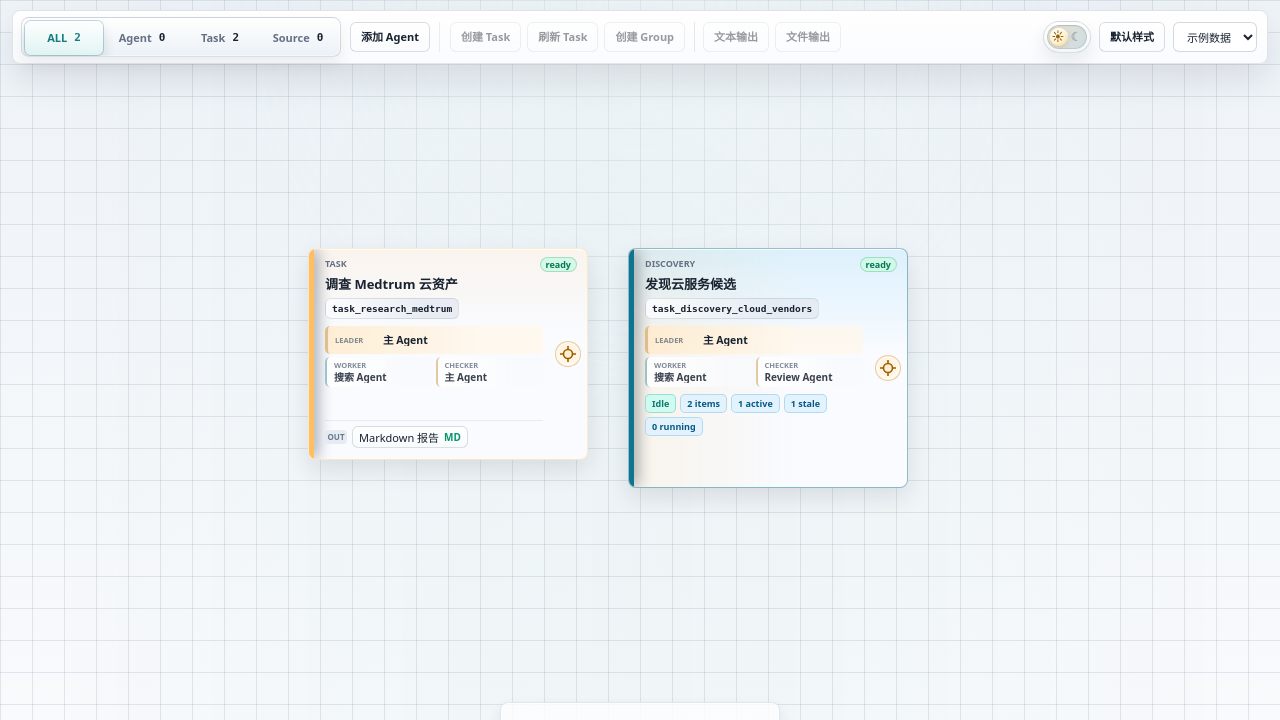
Test: App › canvas connections › renders typed input and output ports on live Task cards
Select "实时 API" in the dropdown: {"x": 1215, "y": 37} top-left (1173, 22), bottom-right (1257, 52)
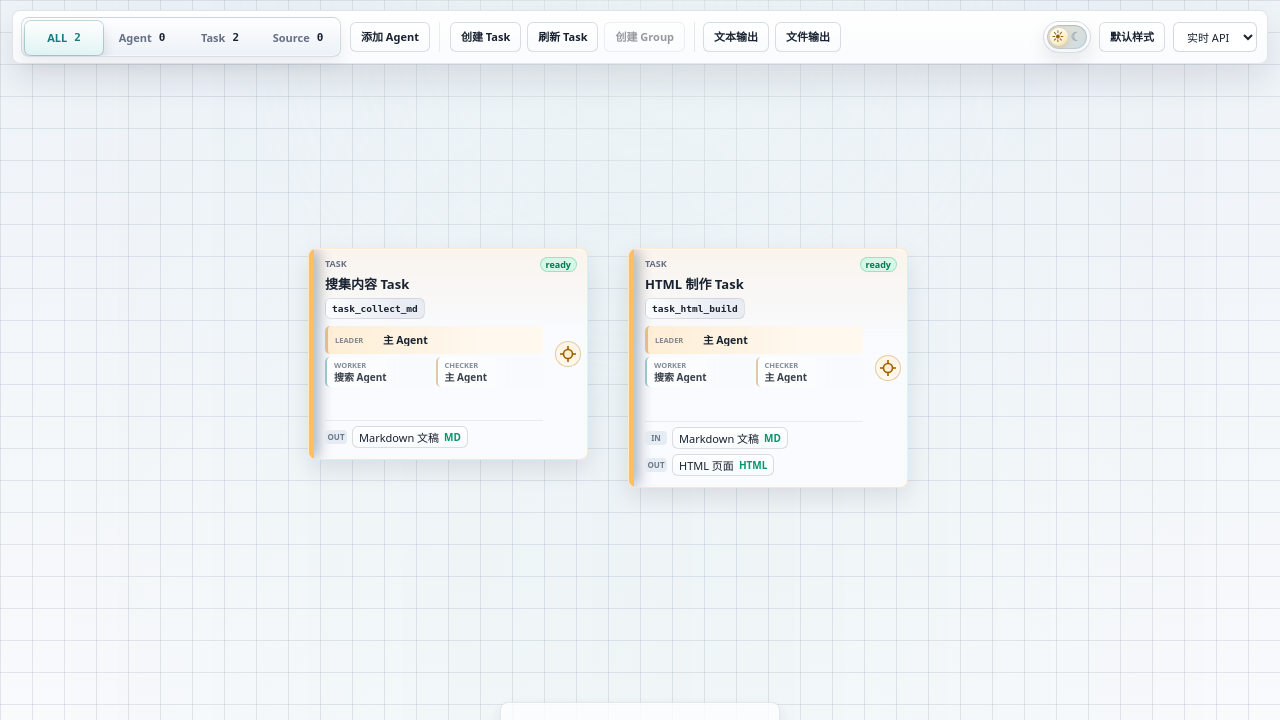
Now the button with aria-label "输出 Markdown 文稿 md" is shown, box top-left (352, 426), bottom-right (468, 448)
Now the button with aria-label "输入 Markdown 文稿 md" is shown, box top-left (672, 427), bottom-right (788, 449)
Now the button with aria-label "输出 HTML 页面 html" is shown, box top-left (672, 454), bottom-right (774, 476)
